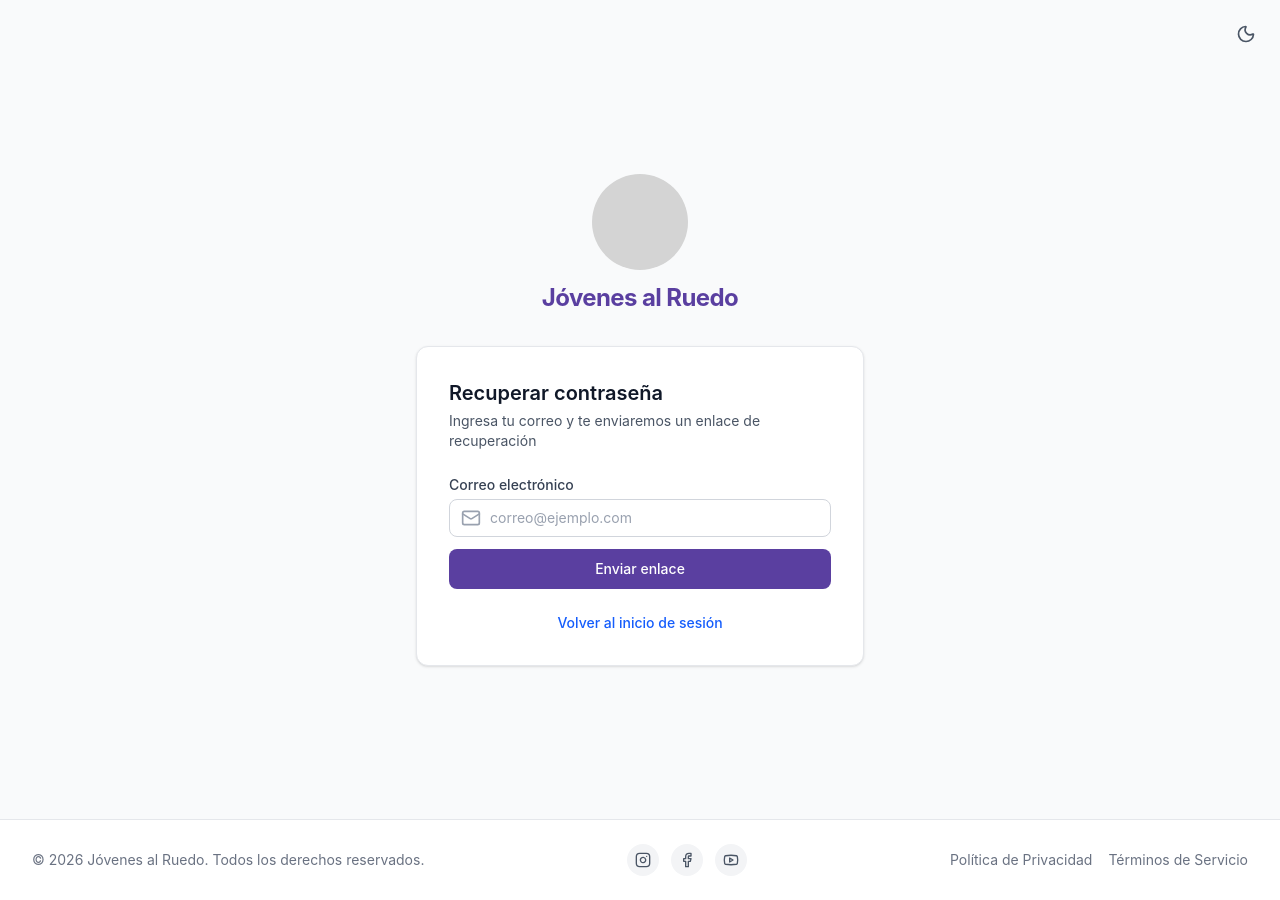
Scenario: ForgotPasswordPage › muestra error si el email está vacío
What coordinates should you click on to do the following:
click the button "Enviar enlace"
I would click on:
 (640, 568)
Its box is [449, 548, 831, 588].
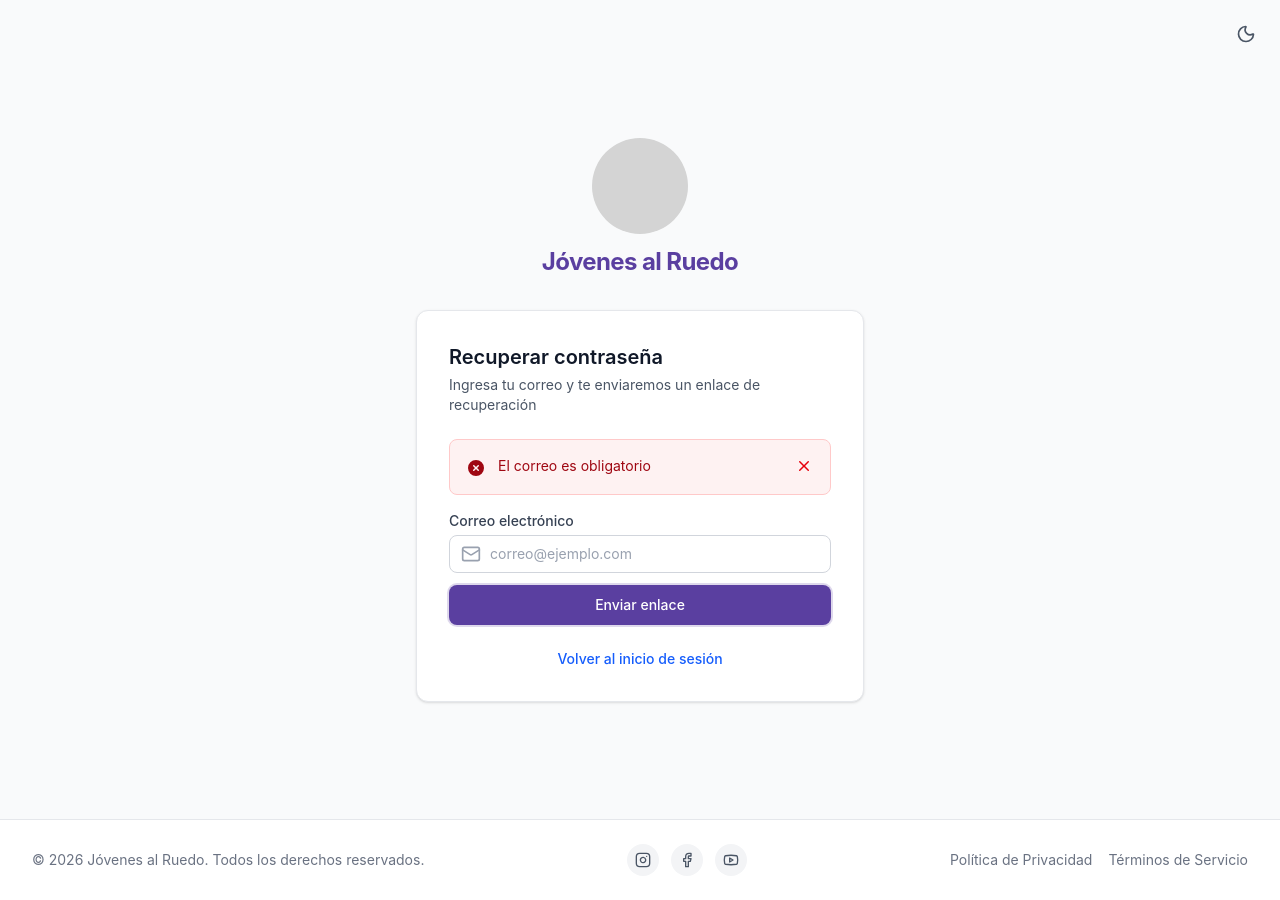
Check: the text "El correo es obligatorio" is shown, box [498, 456, 651, 474]
